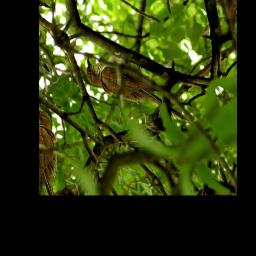Cuckoo: (77, 29, 191, 160)
